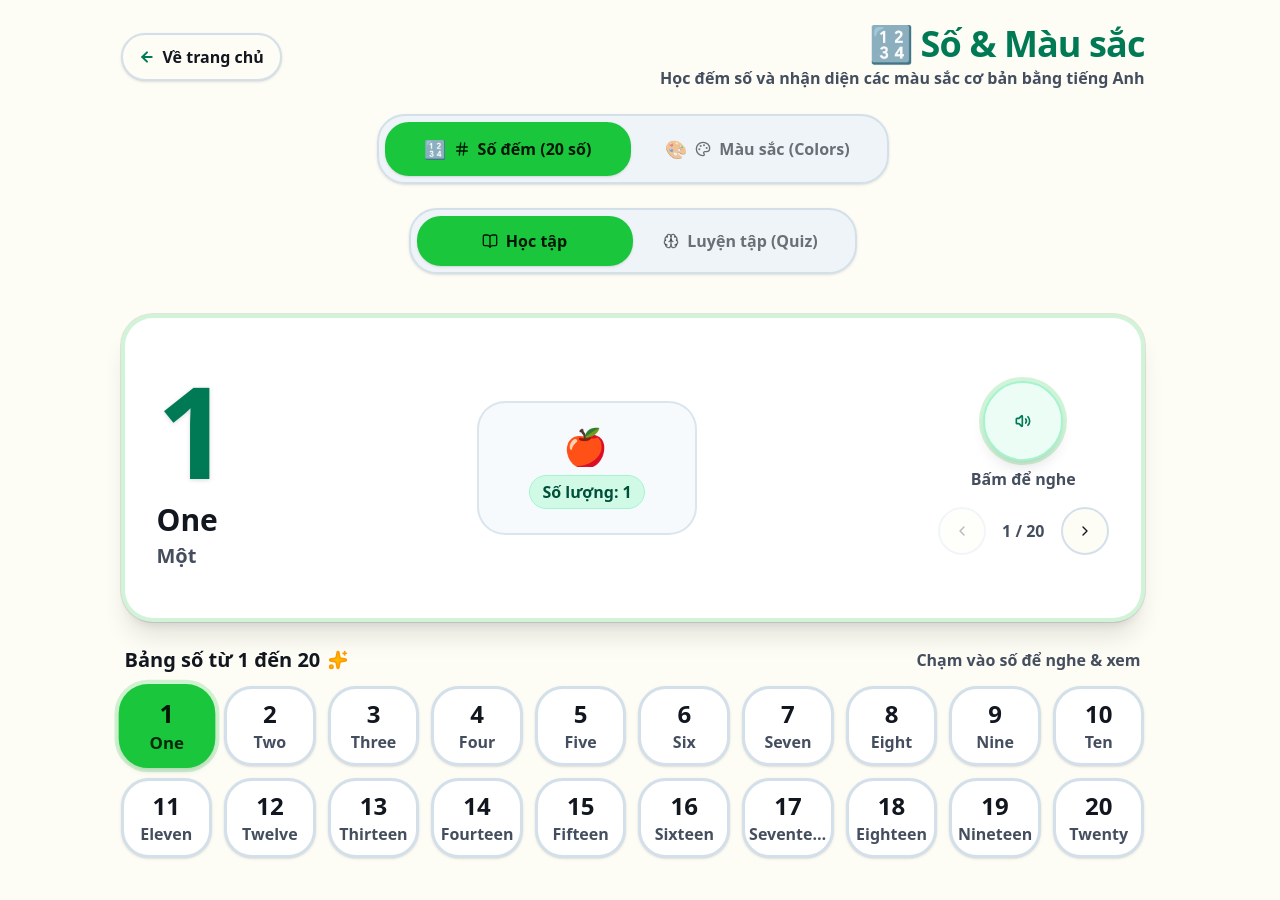
Numbers & Colors Game Page (app/games/numbers-colors/page.tsx) › navigates numbers sequentially via Next and Prev buttons, disables appropriately at boundaries (1 and 20)
The width and height of the screenshot is (1280, 900).
Expected: the button named "Số trước" is disabled, [938,507,986,555]
Click the button named "Số tiếp theo". click: point(1084, 531)
box: [1060,507,1108,555]
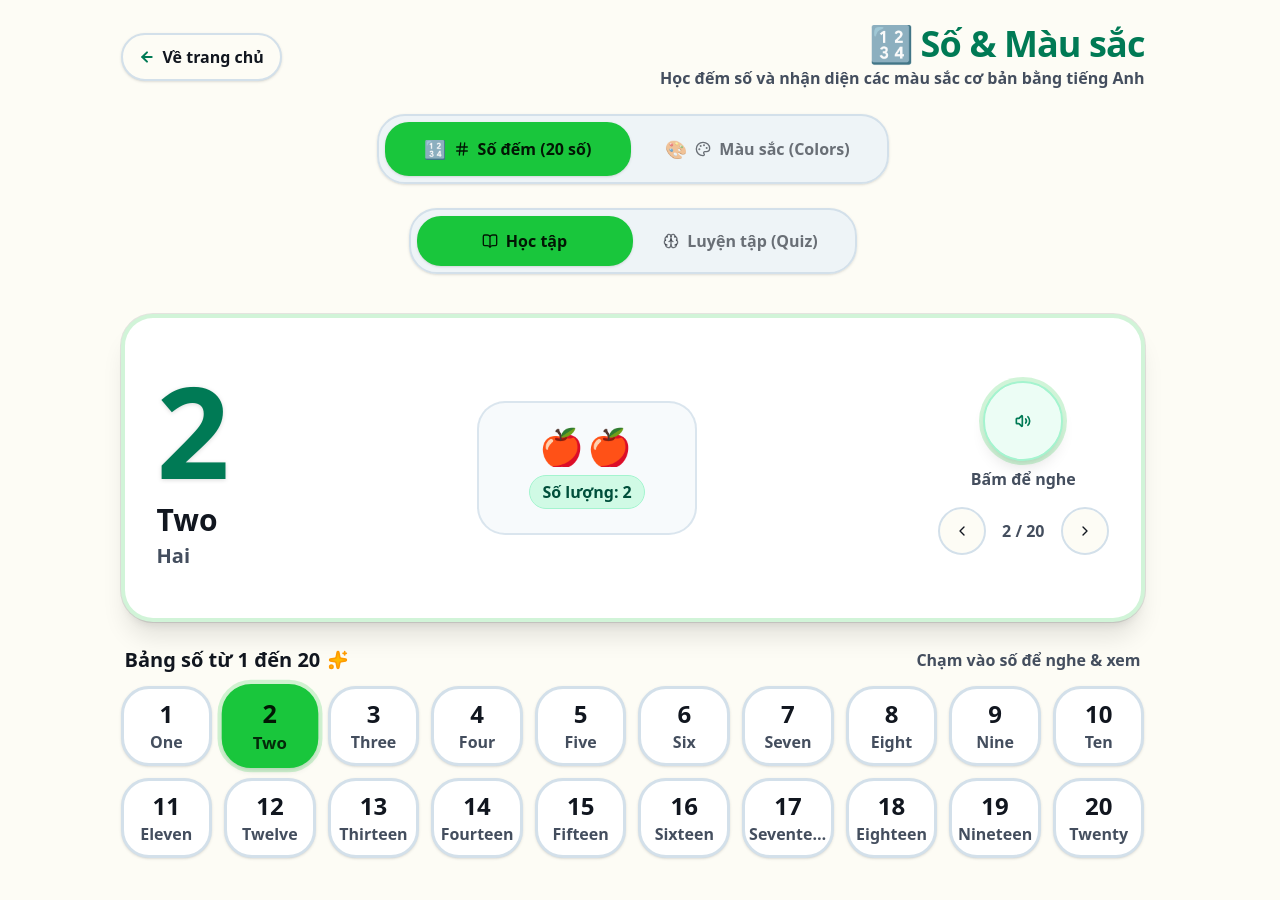
Expected: the element named "Chi tiết số: 2 - Two" is shown, [120,314,1144,622]
Expected: the button named "Số trước" is enabled
Click the button named "Số trước". click: point(962, 531)
box: [938,507,986,555]
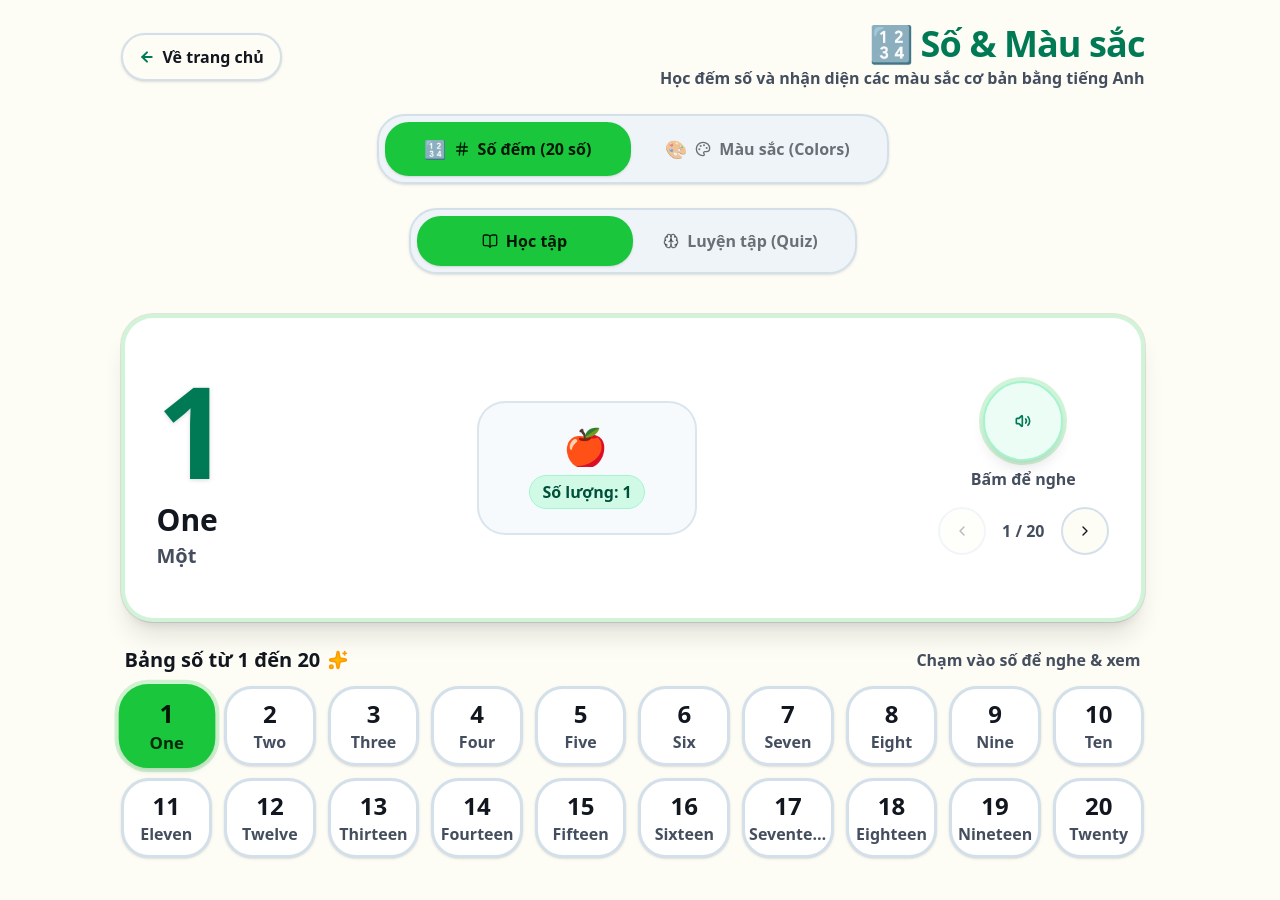
Expected: the button named "Số trước" is disabled, [938,507,986,555]
Click the button "20 Twenty". click: point(1099, 818)
box: [1053,778,1144,858]
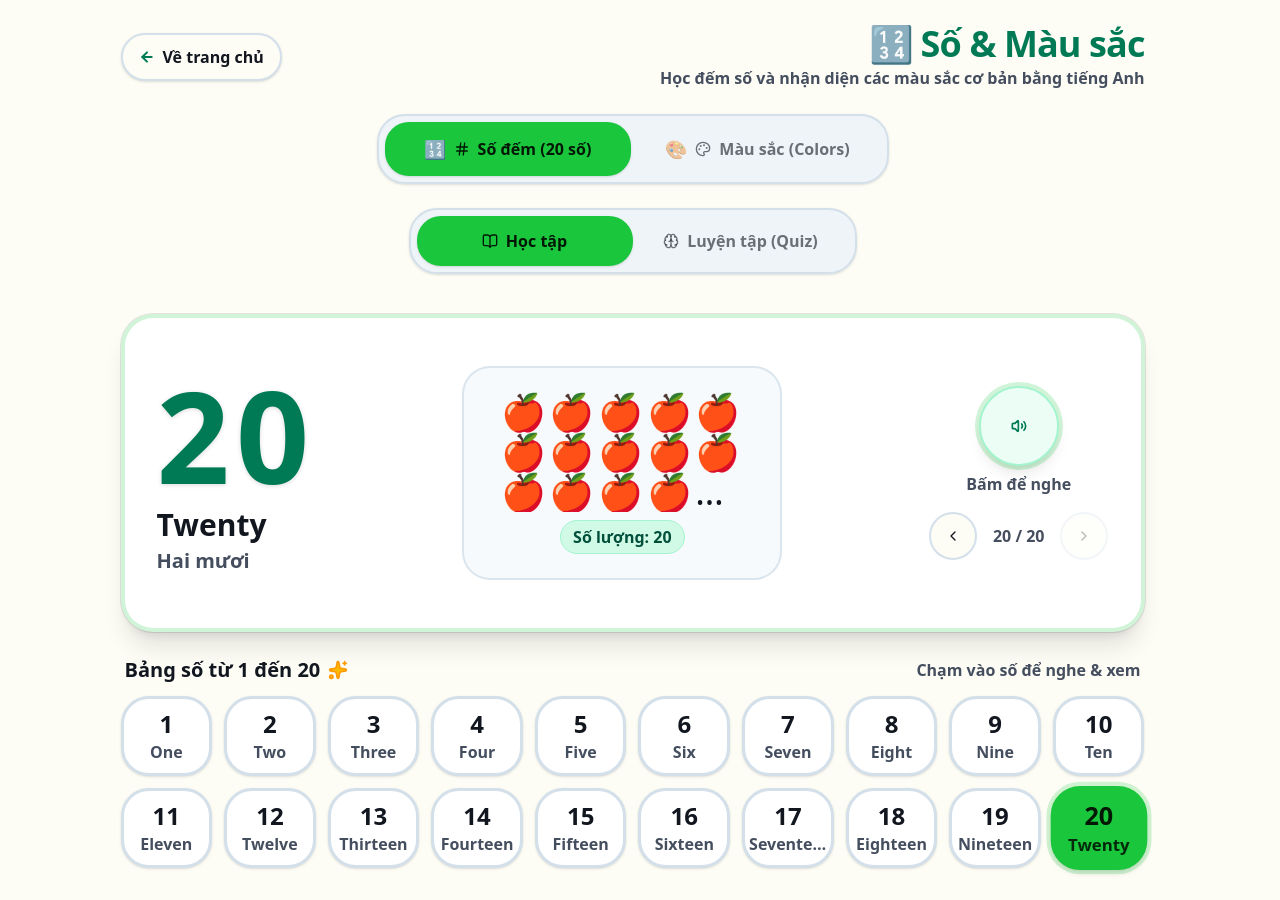
Expected: the button named "Số tiếp theo" is disabled, [1060,512,1108,560]
Expected: the button named "Số trước" is enabled, [929,512,977,560]
